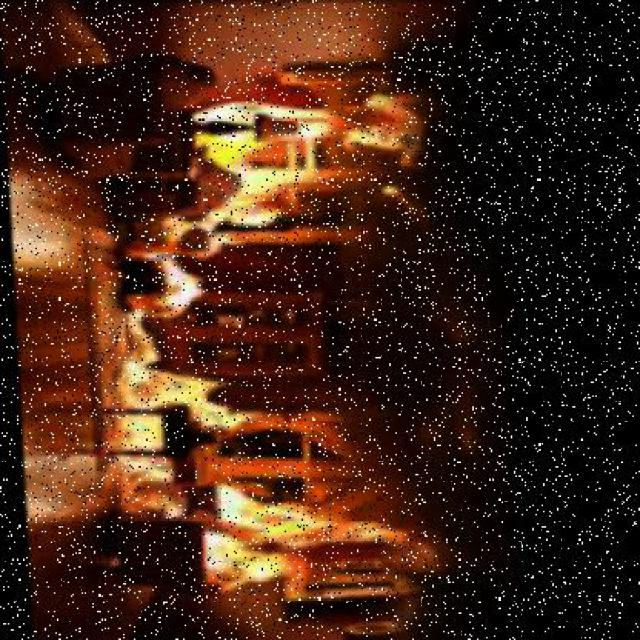fire: (150, 97, 412, 580)
